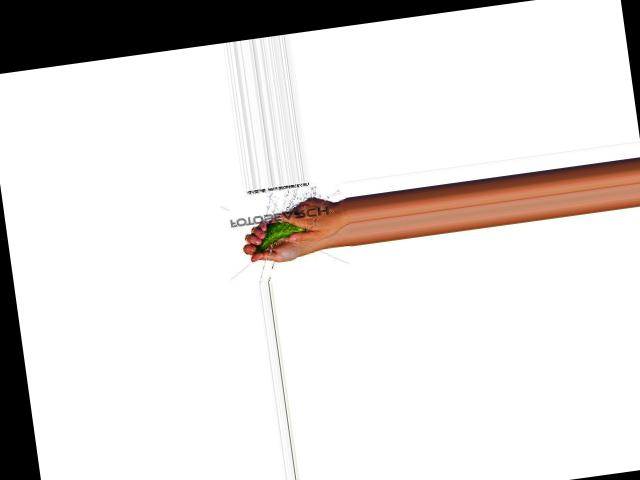cucumber: (250, 216, 310, 253)
